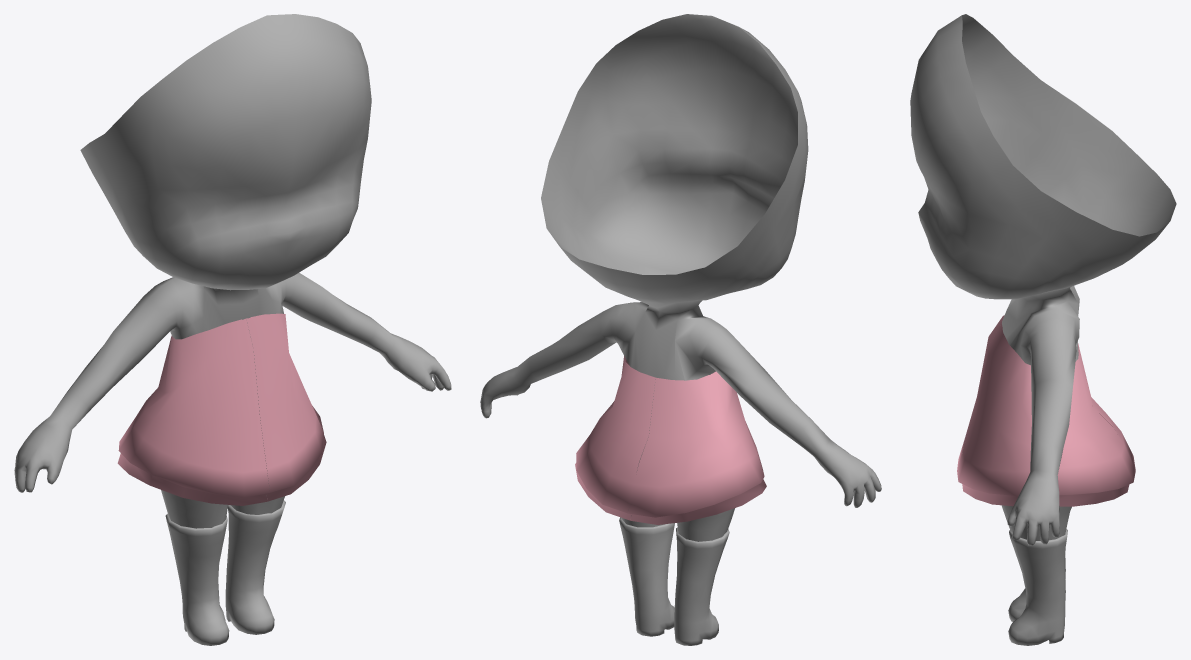
The model's file is aka1_1.fbx.
3 renders of one model, left to right at view 1: azimuth 30°, elevation 25°; view 2: azimuth 150°, elevation 25°; view 3: azimuth 270°, elevation 25°, orthographic. The views are drawn at different scales.
Parts seen in each view (by area): view 1: Pet_Miku3; view 2: Pet_Miku3; view 3: Pet_Miku3.
Boxes of the visible parts, <box> form: Pet_Miku3: <box>14,14,451,645</box>; Pet_Miku3: <box>480,14,881,645</box>; Pet_Miku3: <box>910,14,1176,645</box>.
Bounding box in the file's own units: 15.77 × 22.65 × 9.04.
